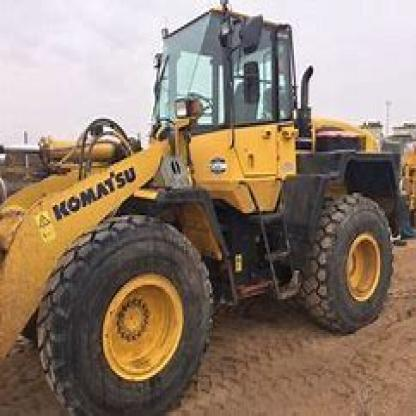bull_dozer/loader/grader: (5, 6, 406, 412)
